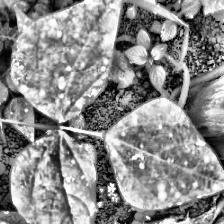Bean Rust: (110, 97, 224, 211), (15, 0, 124, 119), (10, 129, 100, 224)
